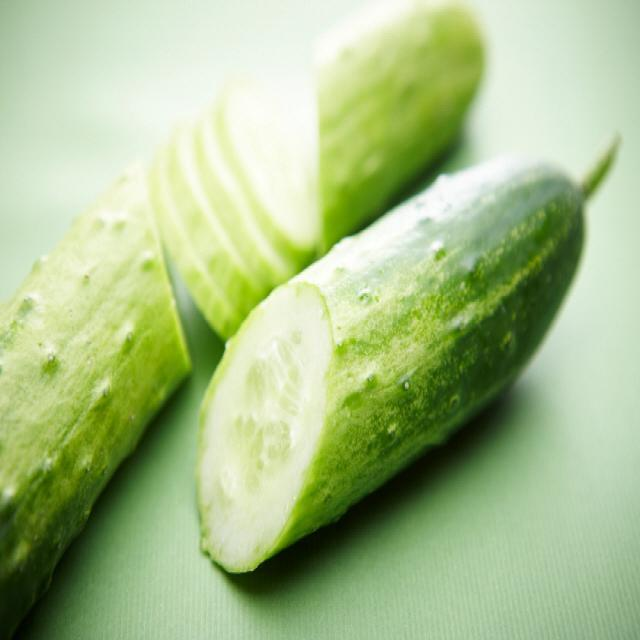cucumber: (190, 144, 594, 594)
